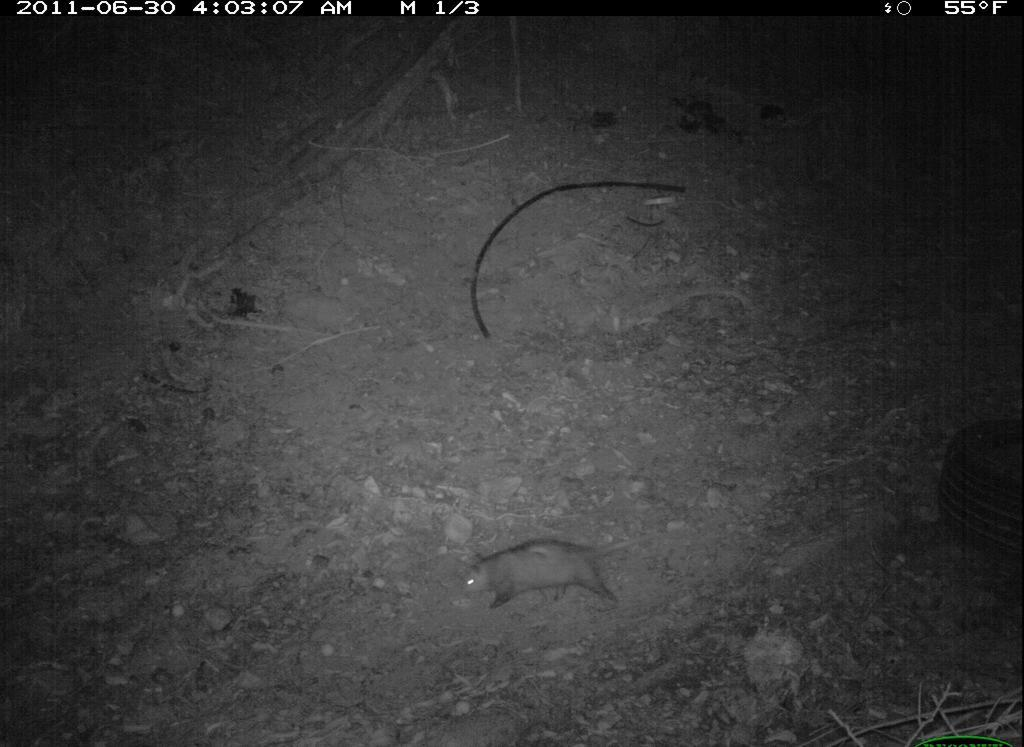opossum: (455, 519, 683, 635)
